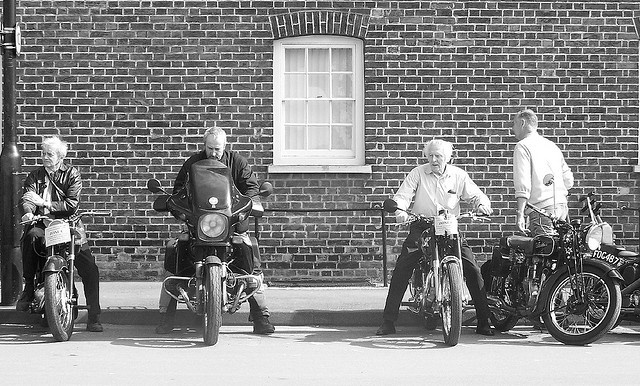non-vehicle: (145, 157, 273, 348), (481, 196, 621, 347), (380, 196, 491, 342), (19, 212, 111, 340), (598, 223, 639, 329)
